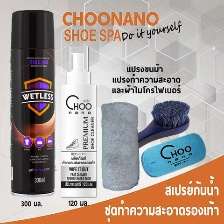aerosol_cans: (7, 6, 58, 200)
cleaning_solution: (57, 44, 99, 200)
